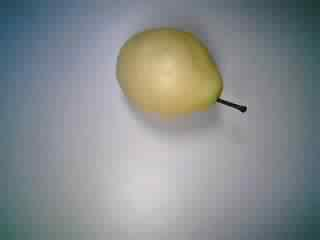pear: (102, 21, 253, 123)
